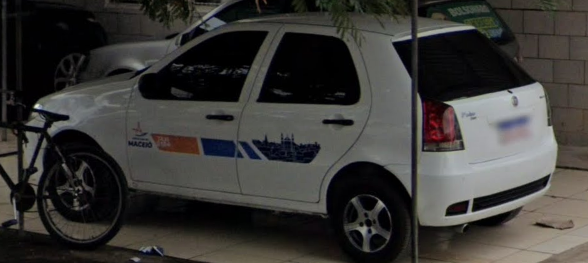car: (23, 13, 558, 251)
